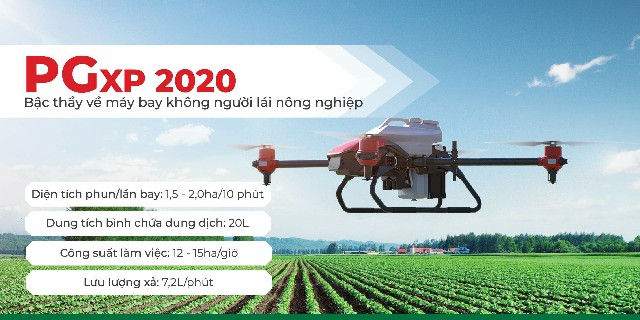maybay_khongnguoilai: (229, 108, 588, 213)
